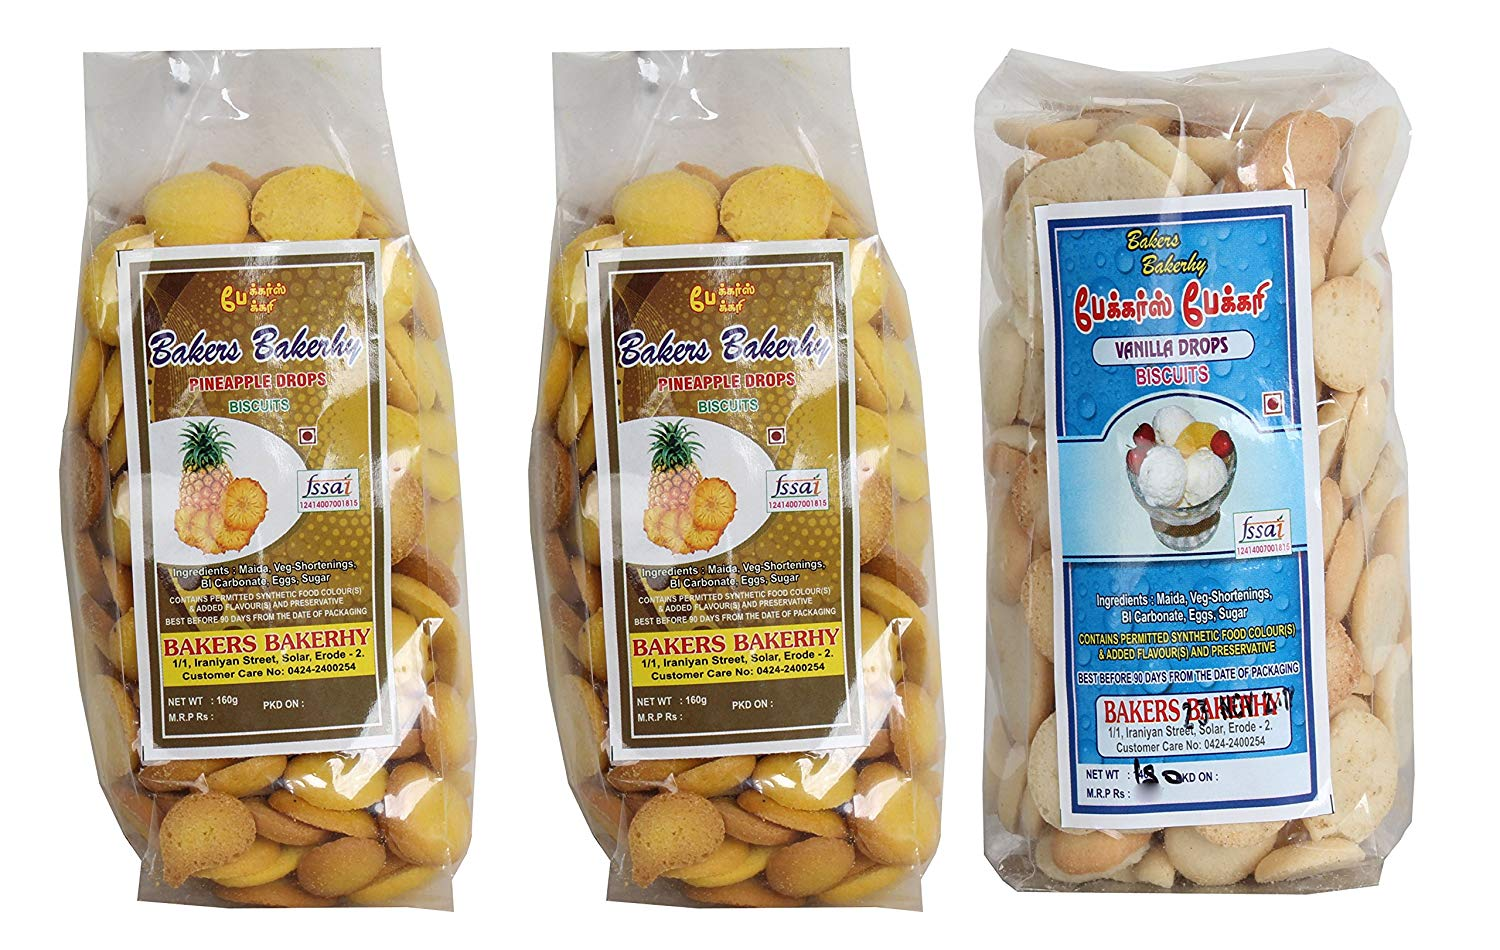nonveg_red: (1261, 391, 1286, 417), (766, 424, 788, 448), (296, 426, 319, 446)
